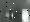person: (23, 10, 29, 22), (7, 11, 13, 21)
